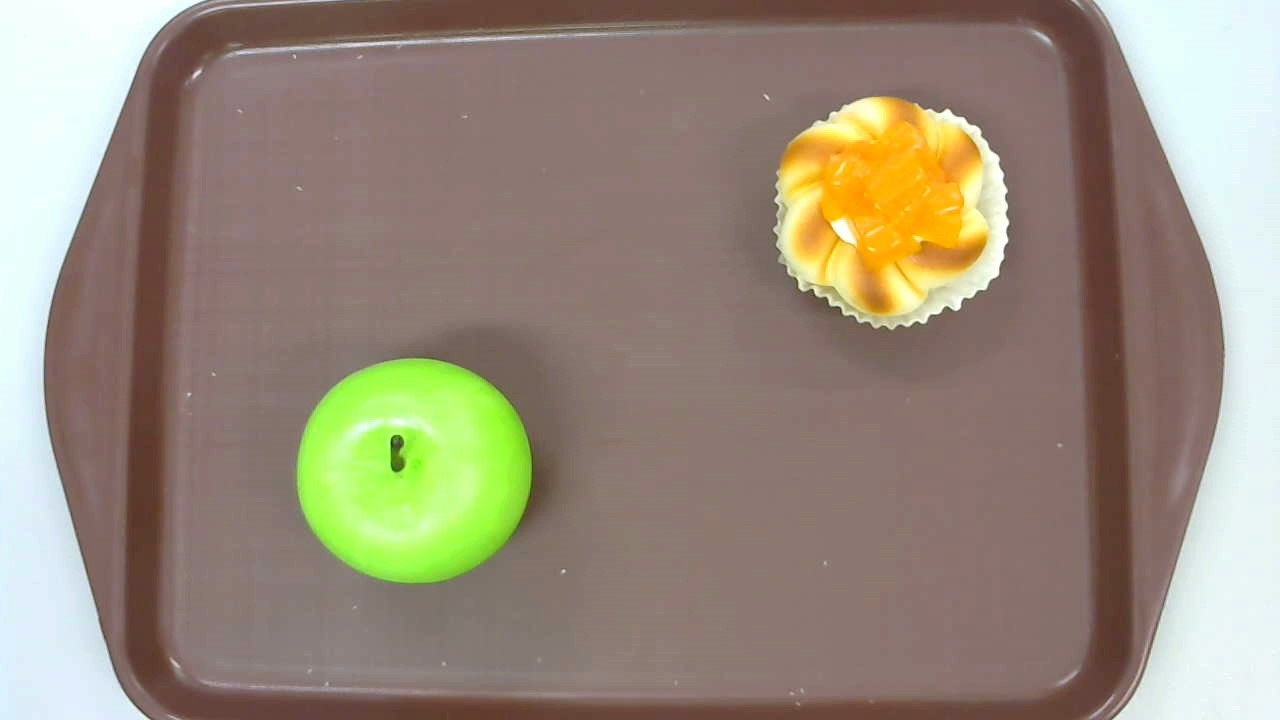green apple: (295, 358, 532, 584)
mango tart: (772, 96, 1009, 331)
